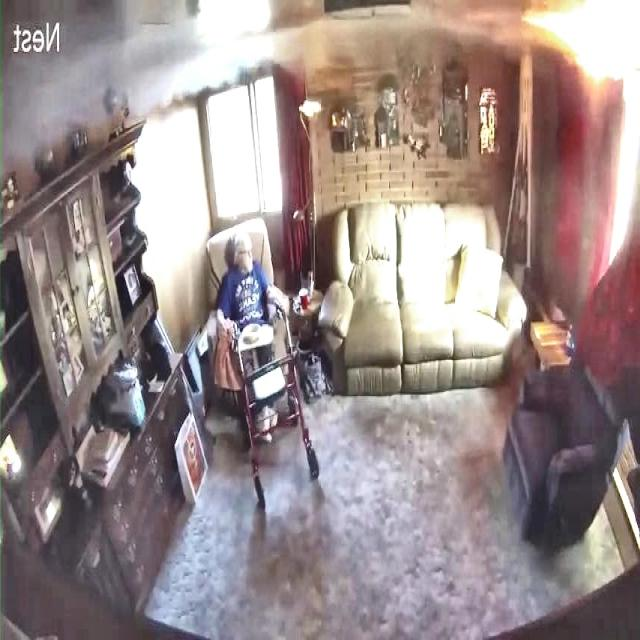fire: (520, 1, 640, 131)
